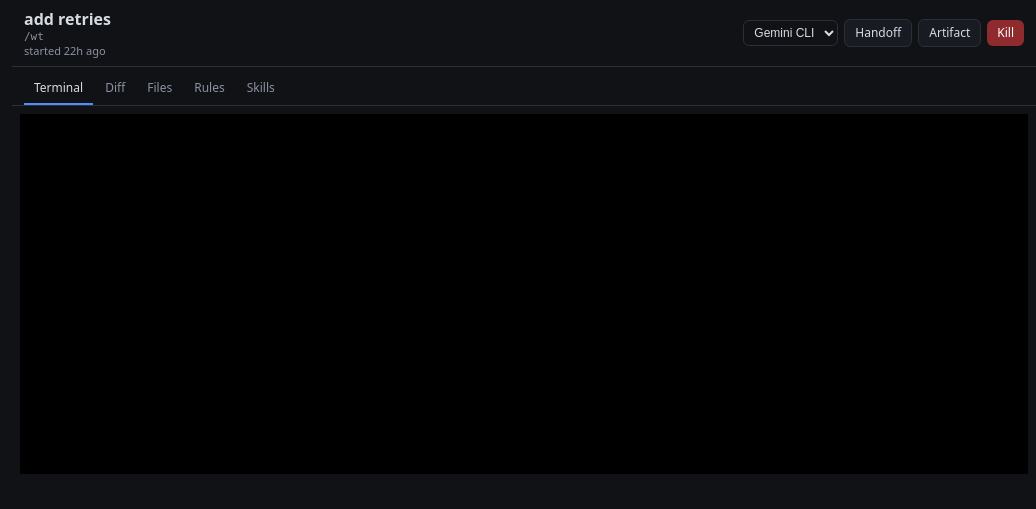
SessionDetail › kills the session and surfaces action errors
Earlier steps of the test are not shown.
Click the button with test id "artifact-button": (950, 33) x1=918 y1=19 x2=981 y2=47
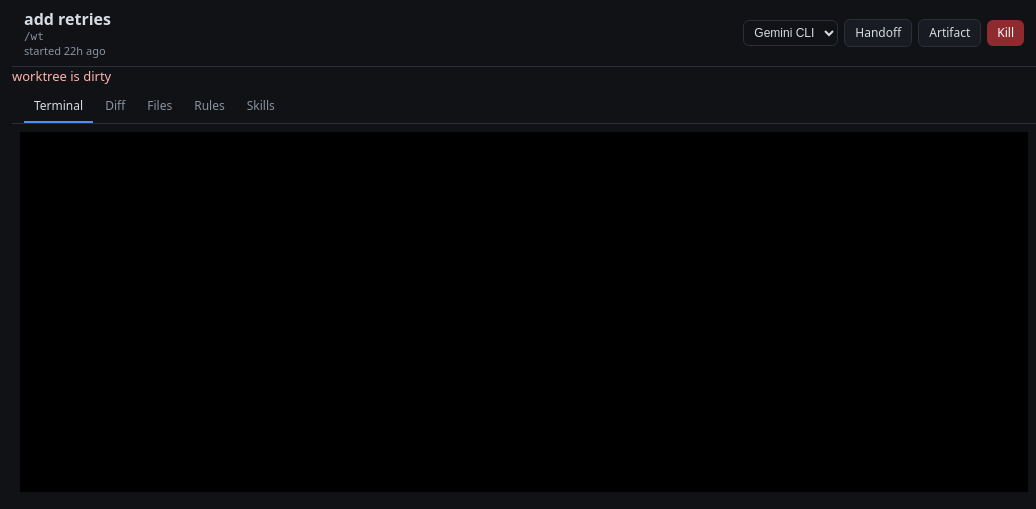
Result: the message reads "worktree is dirty" at x1=12 y1=67 x2=111 y2=85
